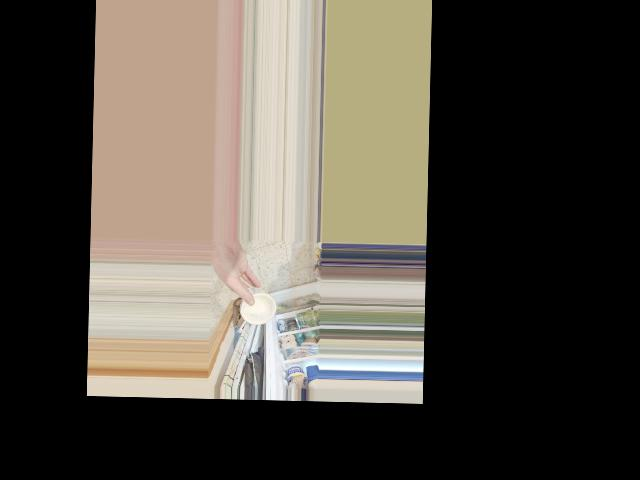cotage: (236, 283, 272, 327)
